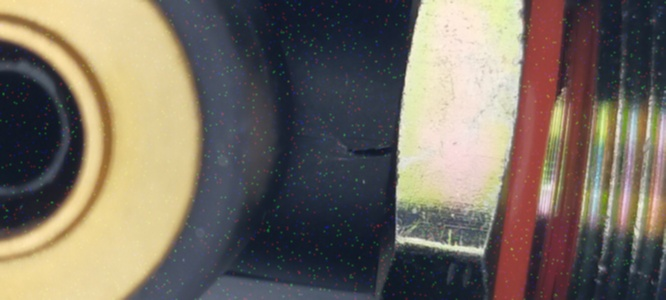craze: (349, 142, 402, 158)
white mark: (313, 139, 349, 155)
